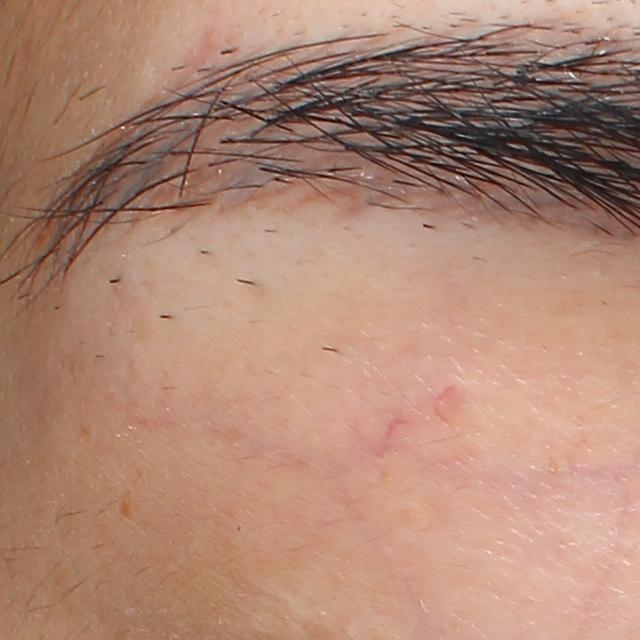melasma: (117, 493, 138, 516)
